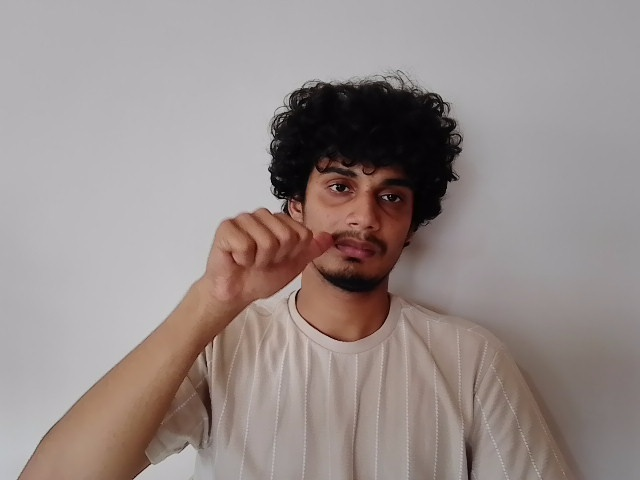drink: (209, 154, 409, 302)
